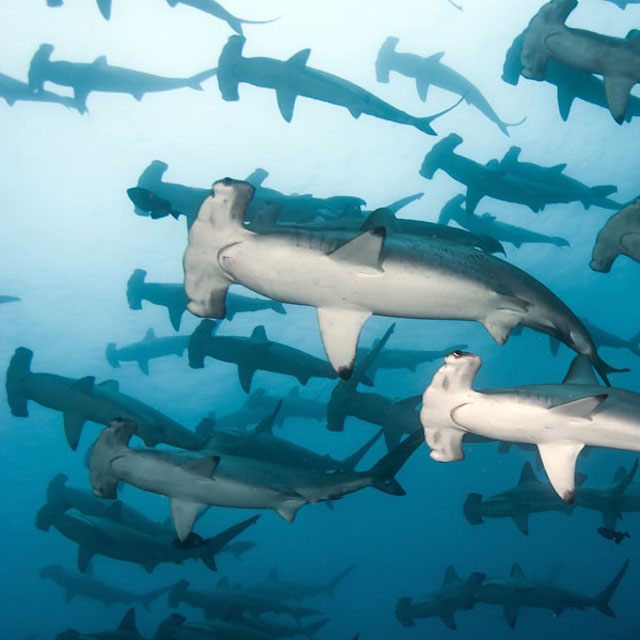hammerhead: (180, 172, 255, 332), (429, 346, 521, 475), (70, 413, 167, 507), (4, 340, 80, 453), (505, 1, 587, 95), (589, 183, 640, 293), (29, 466, 93, 552), (18, 35, 77, 107), (321, 357, 371, 439), (428, 562, 503, 616), (127, 158, 185, 227), (380, 24, 423, 115), (210, 31, 264, 102), (414, 128, 468, 191), (183, 316, 234, 378), (71, 337, 141, 376), (40, 554, 85, 609), (458, 484, 495, 533), (166, 572, 199, 614), (123, 269, 156, 308)
